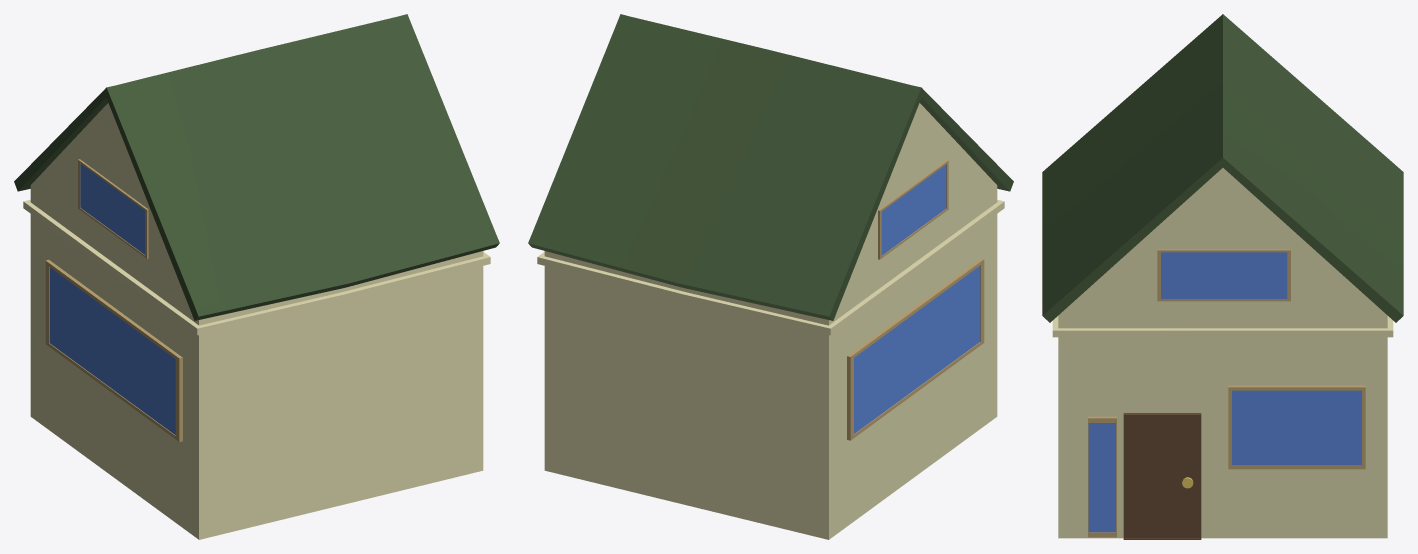
The model's file is BasicHouse.fbx.
The picture shows the model from 3 angles, left to right: view 1: azimuth 30°, elevation 25°; view 2: azimuth 150°, elevation 25°; view 3: azimuth 270°, elevation 25°; orthographic projection. The views are drawn at different scales.
Parts seen in each view (by area): view 1: BasicHouse; view 2: BasicHouse; view 3: BasicHouse.
Part boxes in pixels (x1=…): BasicHouse: x1=14, y1=14, x2=499, y2=539; BasicHouse: x1=528, y1=14, x2=1013, y2=539; BasicHouse: x1=1042, y1=14, x2=1403, y2=539.
Bounding box in the file's own units: 1034 × 1289 × 1096.
